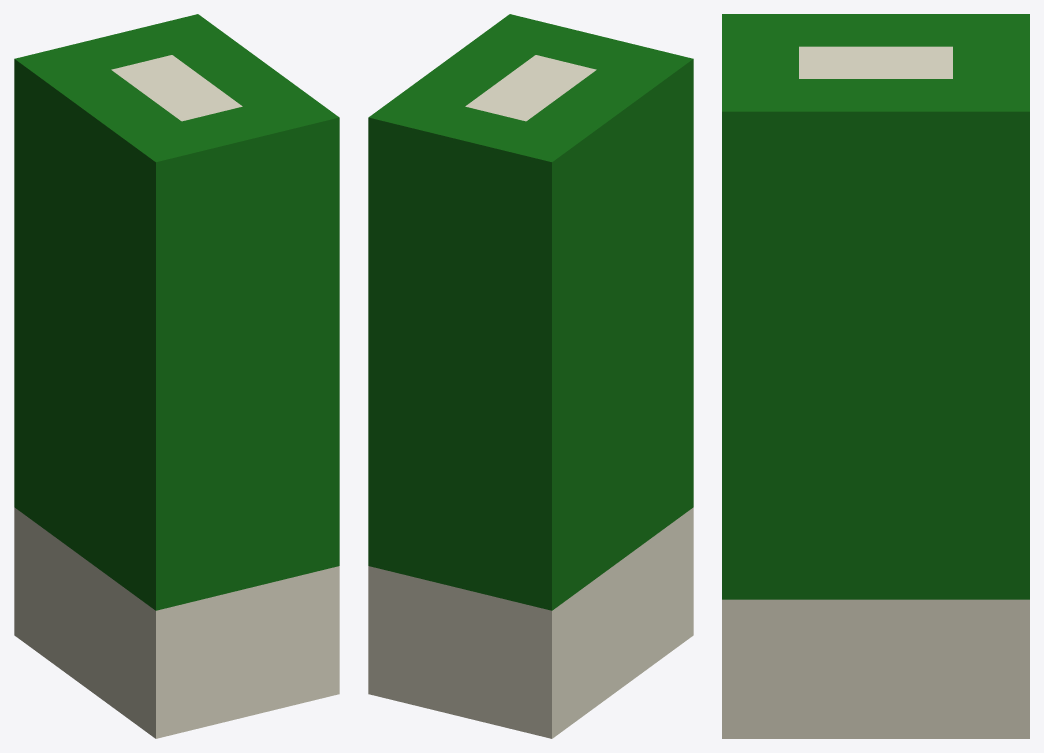
The model's file is character.vox-1-player-2-arm.obj.
3 renders of one model, left to right at view 1: azimuth 30°, elevation 25°; view 2: azimuth 150°, elevation 25°; view 3: azimuth 270°, elevation 25°, orthographic. The views are drawn at different scales.
Parts seen in each view (by area): view 1: player-2-arm; view 2: player-2-arm; view 3: player-2-arm.
Part boxes in pixels (box(x1,y1,x2,y2)): player-2-arm: box(14, 14, 339, 738); player-2-arm: box(368, 14, 693, 738); player-2-arm: box(722, 14, 1029, 738).
Bounding box in the file's own units: 0.3 × 0.9 × 0.4.
1 material, 1 textured.
